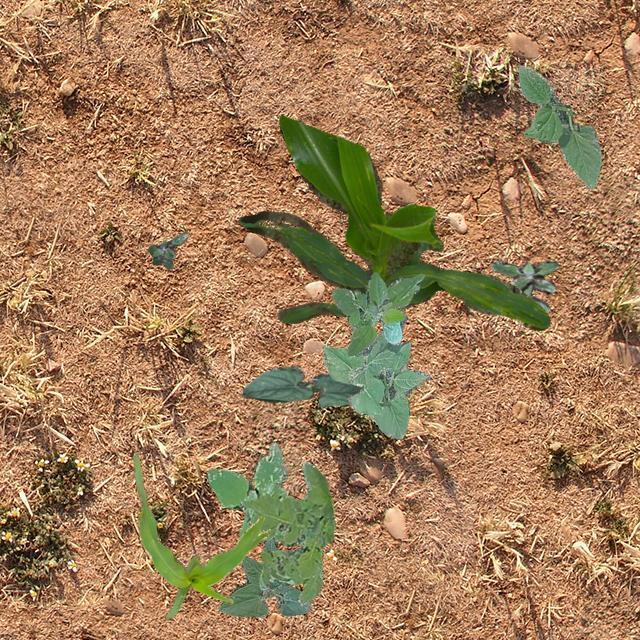crop: (238, 114, 550, 330), (132, 451, 268, 618), (322, 331, 428, 438), (518, 64, 600, 188), (331, 270, 424, 356), (218, 536, 310, 616), (242, 364, 361, 406)
weed: (238, 460, 334, 606), (204, 442, 304, 546), (490, 258, 558, 312), (148, 232, 186, 268)
